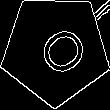O_SW: (24, 17, 87, 82)
